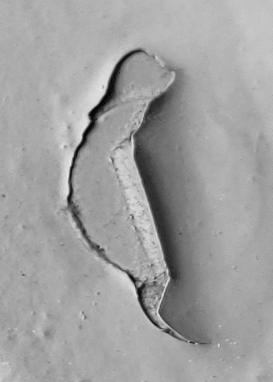paint-off: (0, 1, 273, 382)
